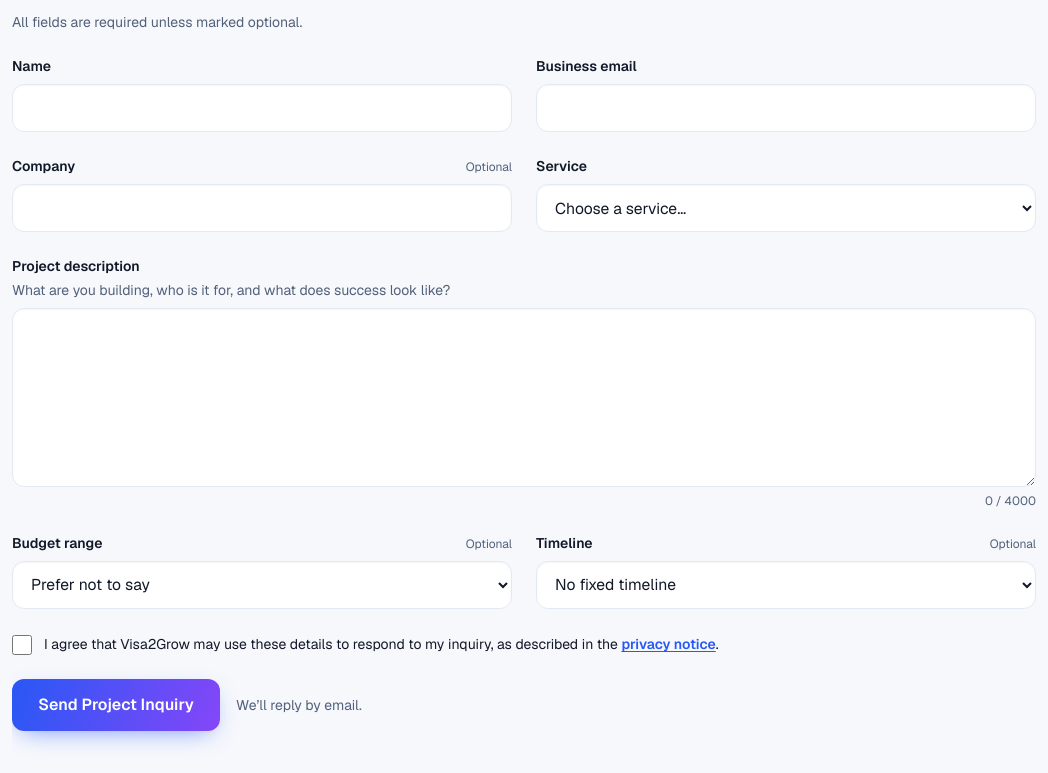
Test: ContactForm › shows field errors returned by the server
Step 1. Type "Asha Rao" into the field labelled "Name" → (262, 108), box [12,84,512,132]
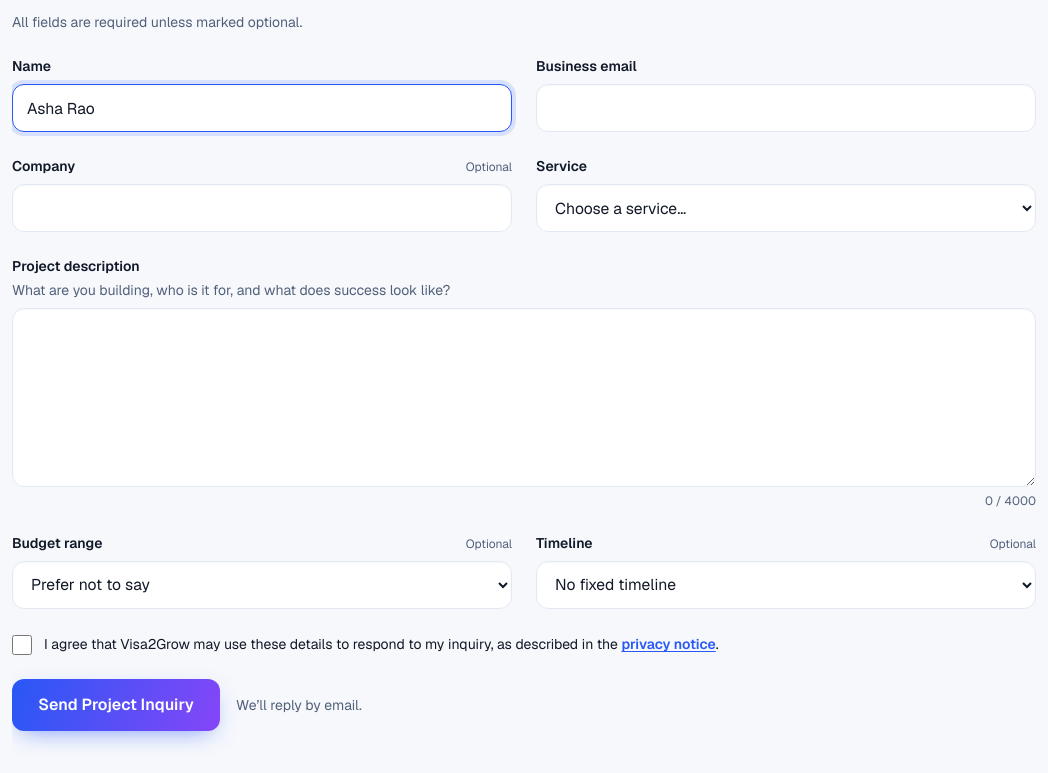
Step 2. Type "asha@example.com" into the field labelled "Business email" → (786, 108), box [536,84,1036,132]
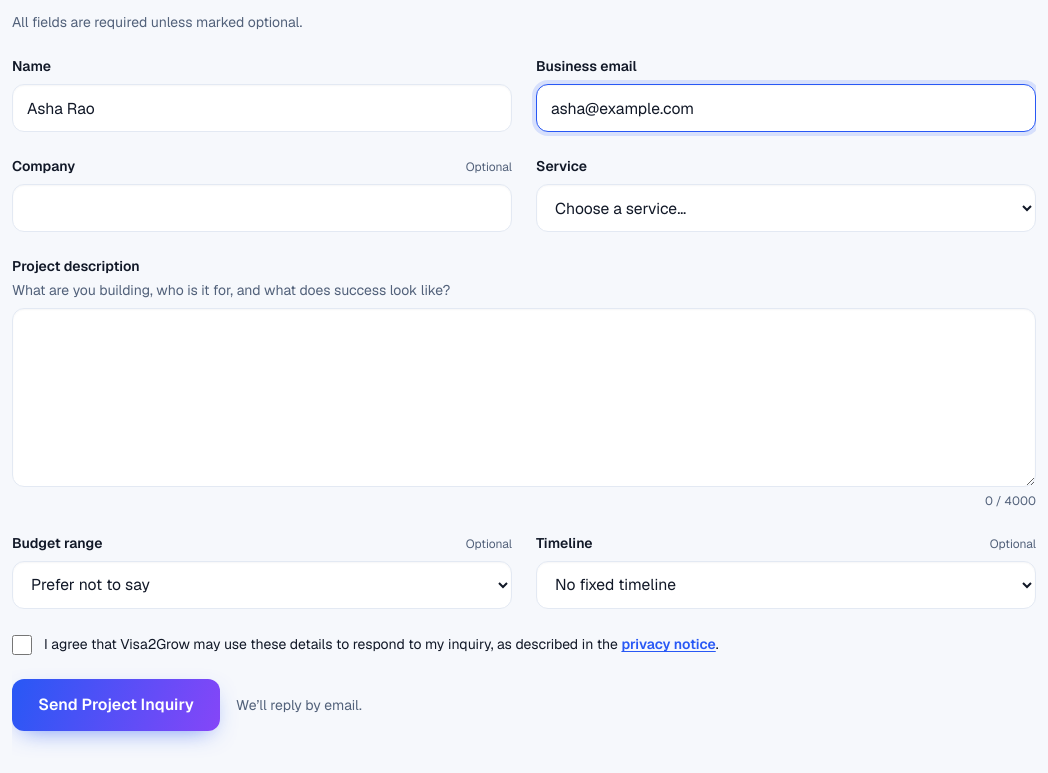
Step 3. Select "Web Development" in the dropdown labelled "Service" → (786, 208), box [536,184,1036,232]
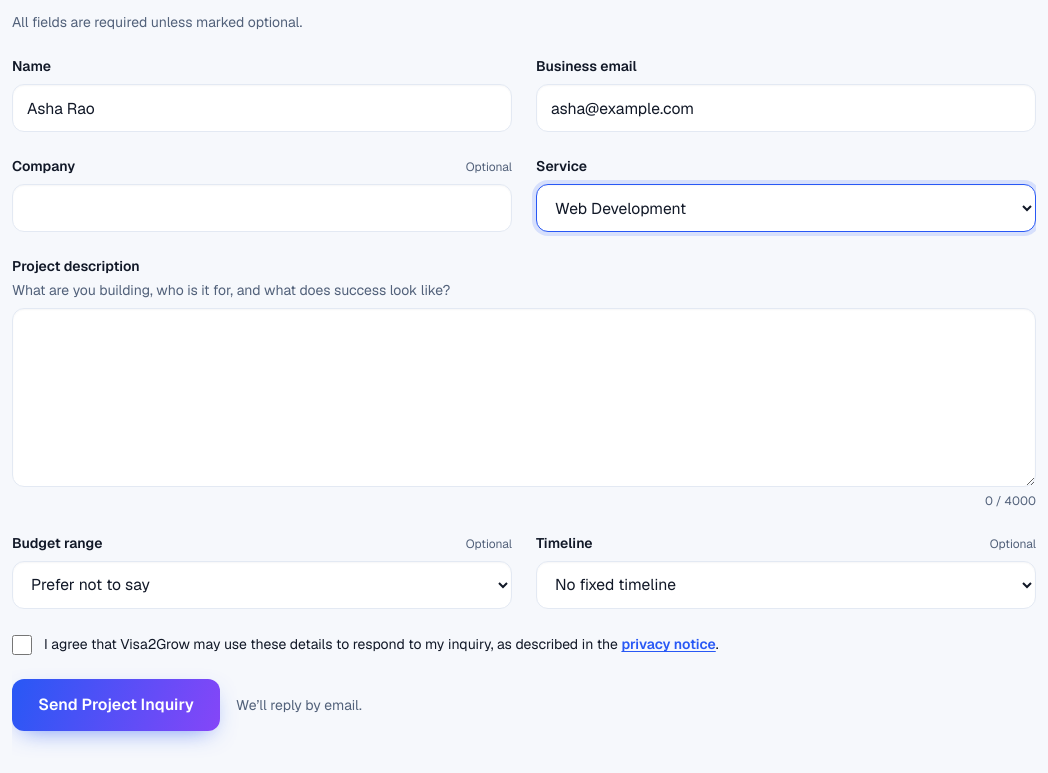
Step 4. Type "We need a customer portal for booking and paying for maintenance visits." into the text box labelled "Project description" → (524, 397), box [12,308,1036,487]
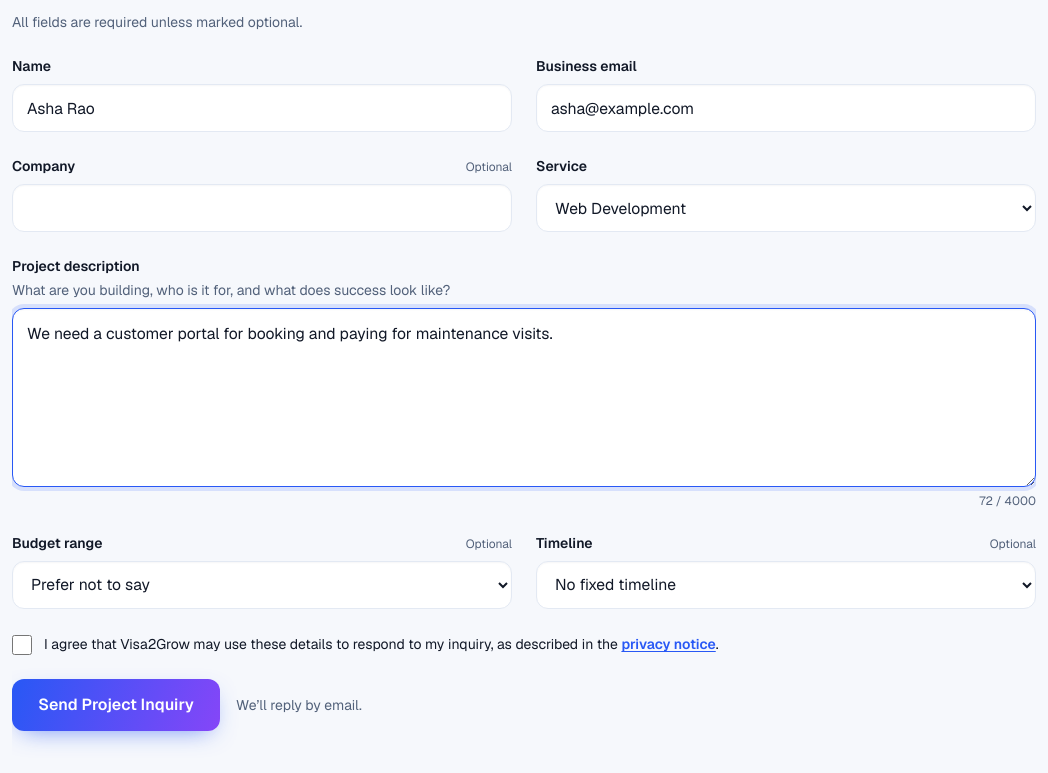
Step 5. Click the checkbox → (22, 645), box [12,635,32,655]
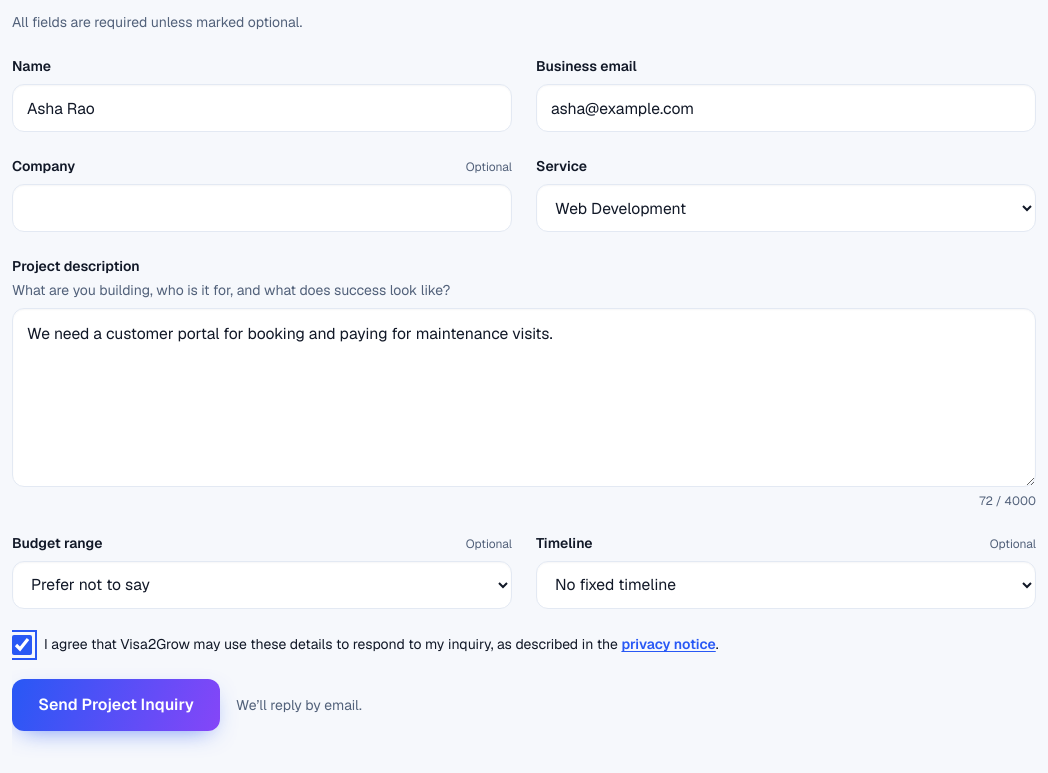
Step 6. Click the button "Send Project Inquiry" → (116, 706), box [12,680,220,732]
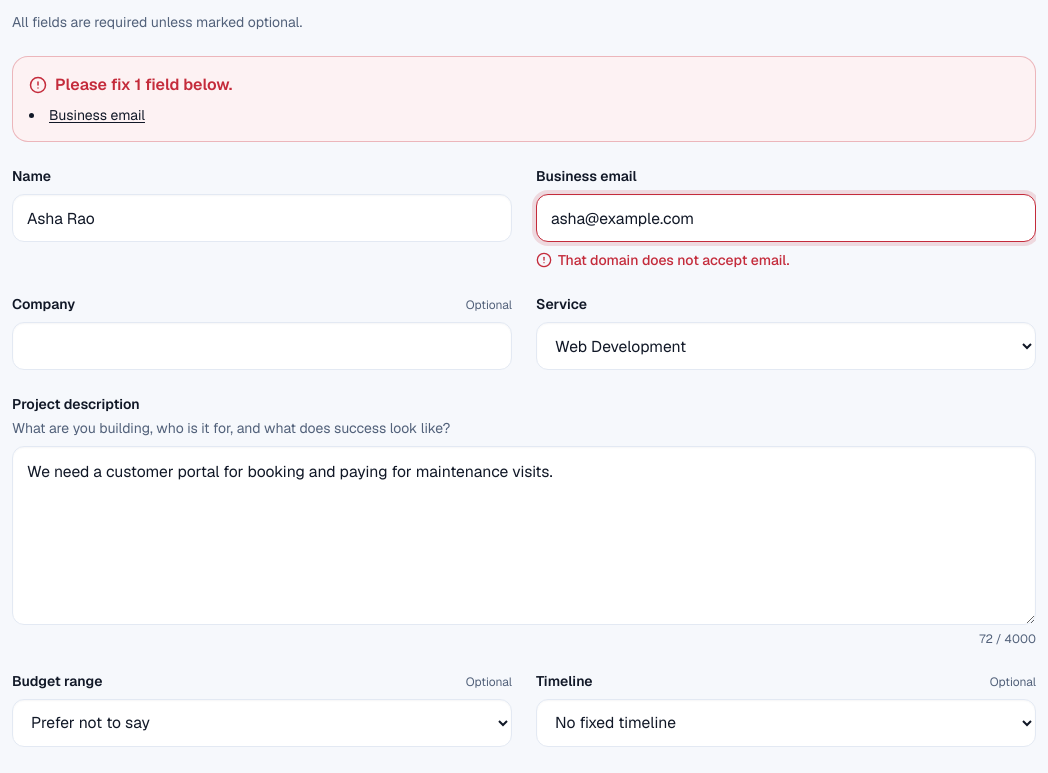
Expected: the text "That domain does not accept email." is shown, [536,251,789,269]
